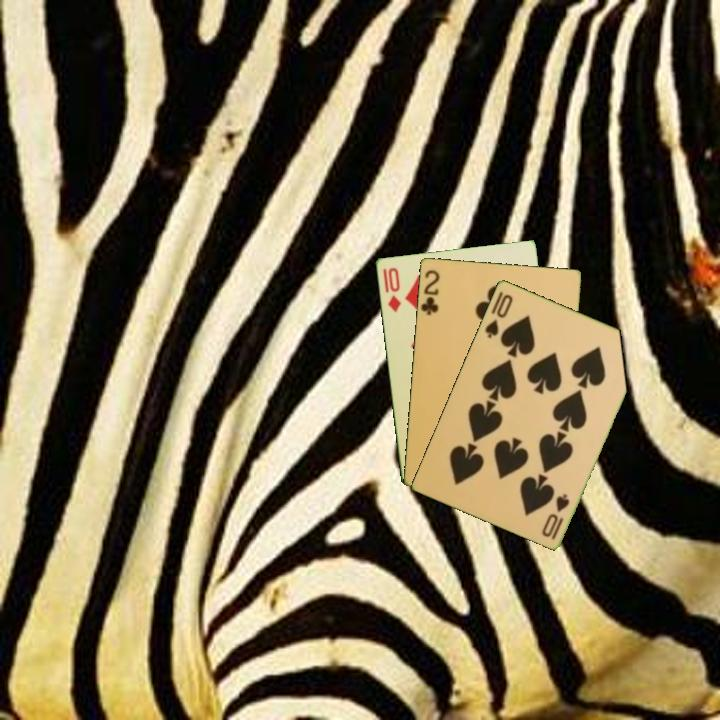10d: (379, 264, 404, 315)
10s: (481, 290, 516, 341), (538, 490, 572, 542)
2c: (418, 266, 442, 318)
